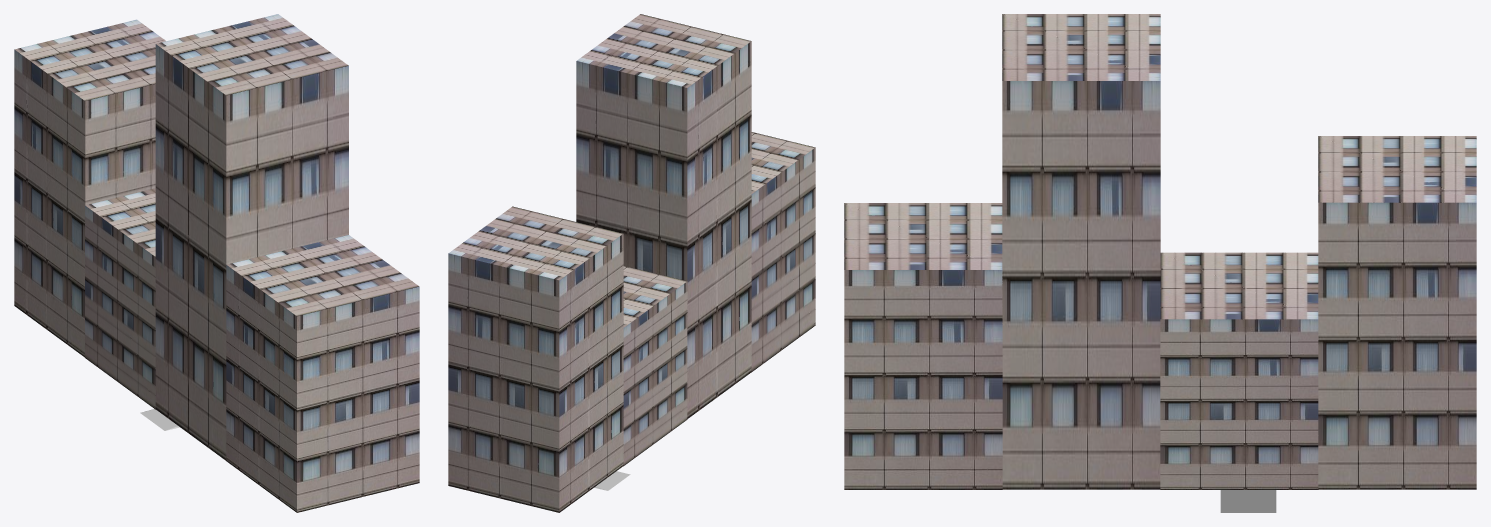
File: BUILDINGS.fbx
3 renders of one model, left to right at view 1: azimuth 30°, elevation 25°; view 2: azimuth 150°, elevation 25°; view 3: azimuth 270°, elevation 25°, orthographic. The views are drawn at different scales.
Parts seen in each view (by area): view 1: Cube.002, Cube.003, Cube, Cube.001; view 2: Cube.002, Cube, Cube.003, Cube.001; view 3: Cube.002, Cube, Cube.003, Cube.001, boor.
Part boxes in pixels (x1=…): Cube.002: x1=155, y1=14, x2=348, y2=460; Cube.003: x1=226, y1=235, x2=419, y2=512; Cube: x1=14, y1=19, x2=165, y2=357; Cube.001: x1=85, y1=188, x2=155, y2=409; Cube.002: x1=576, y1=14, x2=751, y2=418; Cube: x1=448, y1=206, x2=623, y2=512; Cube.003: x1=751, y1=132, x2=815, y2=372; Cube.001: x1=623, y1=266, x2=687, y2=466; Cube.002: x1=1002, y1=14, x2=1160, y2=489; Cube: x1=1318, y1=136, x2=1476, y2=489; Cube.003: x1=844, y1=203, x2=1002, y2=489; Cube.001: x1=1160, y1=252, x2=1318, y2=489; boor: x1=1220, y1=490, x2=1276, y2=512.
Bounding box in the file's own units: 1481 × 4805 × 5919.
